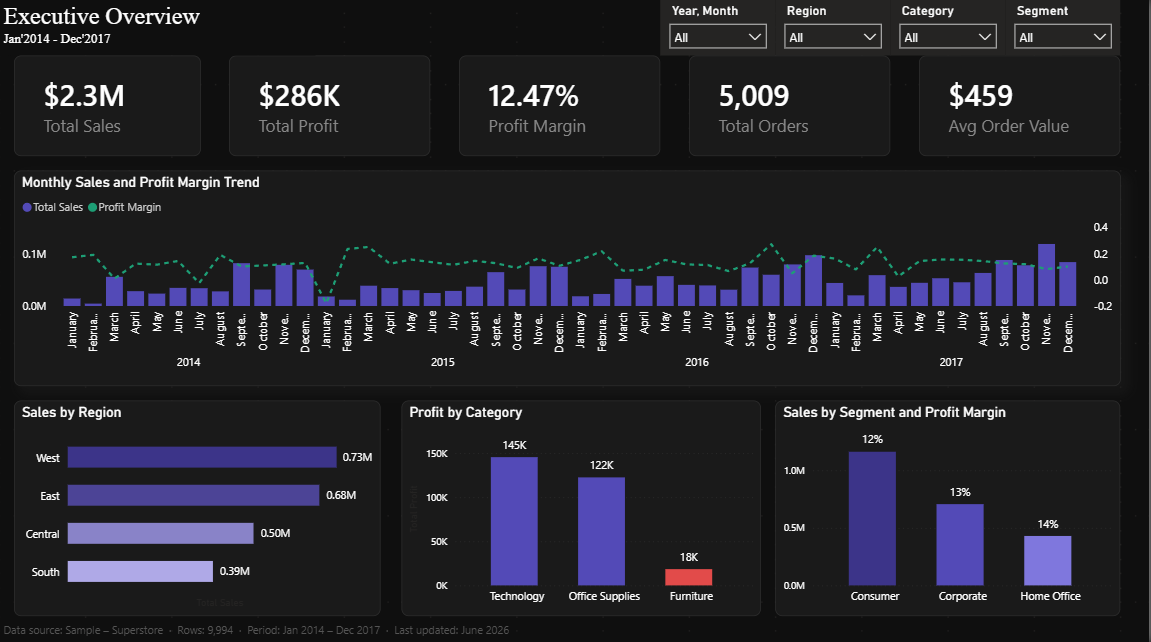

Layout of this report page (visuals, bound fields, positions):
{"tool":"powerbi","page":{"name":"Executive Overview","canvas":[1280,720],"ordinal":0},"visuals":[{"type":"cardVisual","fields":{"Data":["Table1.Avg Order Value"]},"box":[1024,64,224,112],"z":0},{"type":"slicer","fields":{"Values":["Table1.Segment"]},"box":[1120,0,128,64],"z":1000},{"type":"slicer","fields":{"Values":["Table1.Category"]},"box":[992,0,128,64],"z":2000},{"type":"slicer","fields":{"Values":["Table1.Region"]},"box":[864,0,128,64],"z":3000},{"type":"slicer","fields":{"Values":["Table1.Order Date.Variation.Date Hierarchy.Year","Table1.Order Date.Variation.Date Hierarchy.Month"]},"box":[736,0,128,64],"z":4000},{"type":"cardVisual","fields":{"Data":["Table1.Total Orders"]},"box":[768,64,224,112],"z":5000},{"type":"cardVisual","fields":{"Data":["Table1.Profit Margin"]},"box":[512,64,224,112],"z":6000},{"type":"cardVisual","fields":{"Data":["Table1.Total Profit"]},"box":[256,64,224,112],"z":7000},{"type":"textbox","box":[0,0,352,64],"z":9000},{"type":"lineClusteredColumnComboChart","title":"Monthly Sales and Profit Margin Trend","fields":{"Category":["Table1.Order Date.Variation.Date Hierarchy.Year","Table1.Order Date.Variation.Date Hierarchy.Month"],"Y2":["Table1.Profit Margin"],"Y":["Table1.Total Sales"]},"box":[16,192,1232,240],"z":10000},{"type":"clusteredBarChart","title":"Sales by Region","fields":{"Y":["Table1.Total Sales"],"Category":["Table1.Region"]},"box":[16,448,408,240],"z":11000},{"type":"clusteredColumnChart","title":"Profit by Category","fields":{"Y":["Table1.Total Profit"],"Category":["Table1.Category"]},"box":[448,448,400,240],"z":12000},{"type":"clusteredColumnChart","title":"Sales by Segment and Profit Margin","fields":{"Category":["Table1.Segment"],"Y":["Table1.Total Sales"]},"box":[864,448,384,240],"z":13000},{"type":"textbox","box":[0,688,608,32],"z":14000},{"type":"cardVisual","fields":{"Data":["Table1.Total Sales"]},"box":[16,64,208,112],"z":14001}]}

Visuals, with their boxes in screenshot pixels (x1, y1, x2, y2), scaled from the page's 1280x720 canvas onto the 1151x642 screenshot:
cardVisual - Table1.Avg Order Value: (921, 57, 1122, 157)
slicer - Table1.Segment: (1007, 0, 1122, 57)
slicer - Table1.Category: (892, 0, 1007, 57)
slicer - Table1.Region: (777, 0, 892, 57)
slicer - Table1.Order Date.Variation.Date Hierarchy.Year x Table1.Order Date.Variation.Date Hierarchy.Month: (662, 0, 777, 57)
cardVisual - Table1.Total Orders: (691, 57, 892, 157)
cardVisual - Table1.Profit Margin: (460, 57, 662, 157)
cardVisual - Table1.Total Profit: (230, 57, 432, 157)
textbox: (0, 0, 317, 57)
"Monthly Sales and Profit Margin Trend" lineClusteredColumnComboChart: (14, 171, 1122, 385)
"Sales by Region" clusteredBarChart: (14, 399, 381, 613)
"Profit by Category" clusteredColumnChart: (403, 399, 763, 613)
"Sales by Segment and Profit Margin" clusteredColumnChart: (777, 399, 1122, 613)
textbox: (0, 613, 547, 641)
cardVisual - Table1.Total Sales: (14, 57, 201, 157)
